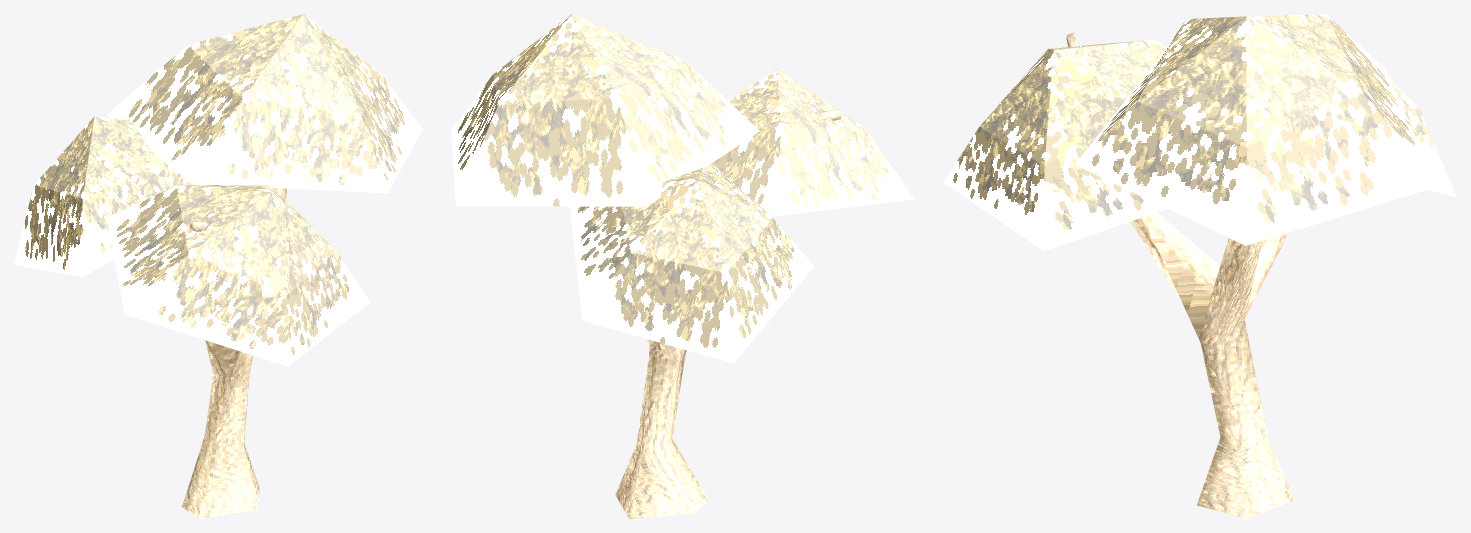
File: arbol_hojassecas.glb
3 views of the same model, side by side, from view 1: azimuth 30°, elevation 25°; view 2: azimuth 150°, elevation 25°; view 3: azimuth 270°, elevation 25° (orthographic). The views are drawn at different scales.
Parts seen in each view (by area): view 1: arbol_otono; view 2: arbol_otono; view 3: arbol_otono.
Part boxes in pixels (x1,y1,x2,y2): arbol_otono: (14, 14, 422, 518); arbol_otono: (451, 14, 914, 518); arbol_otono: (943, 14, 1456, 518).
Bounding box in the file's own units: 2.19 × 2.57 × 2.27.
